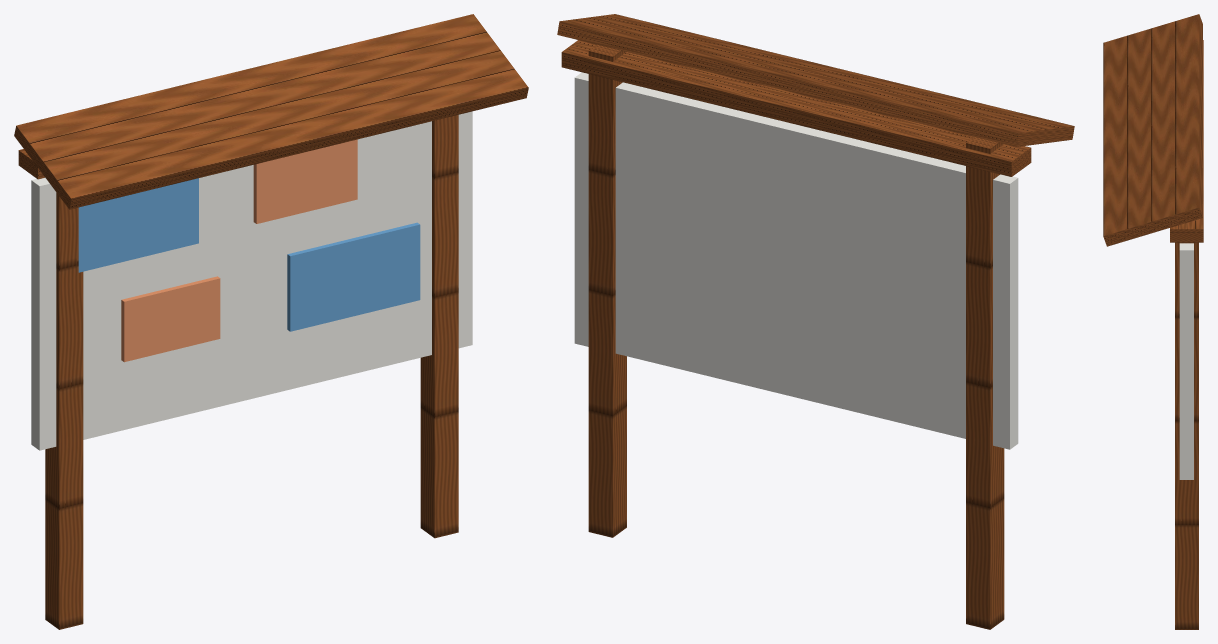
The model's file is caravan-park-and-campsite-site-noticeboard-3448b55f__35378.glb.
The picture shows the model from 3 angles, left to right: view 1: azimuth 30°, elevation 25°; view 2: azimuth 150°, elevation 25°; view 3: azimuth 270°, elevation 25°; orthographic projection. The views are drawn at different scales.
Visible parts, largest first — view 1: site-noticeboard-timber, site-noticeboard-shell, site-noticeboard-azure, site-noticeboard-flame; view 2: site-noticeboard-shell, site-noticeboard-timber; view 3: site-noticeboard-timber, site-noticeboard-shell.
Part boxes in pixels (x1,y1,x2,y2): site-noticeboard-timber: (14, 14, 528, 629); site-noticeboard-shell: (31, 111, 472, 450); site-noticeboard-azure: (78, 178, 420, 331); site-noticeboard-flame: (121, 139, 357, 362); site-noticeboard-shell: (574, 72, 1018, 449); site-noticeboard-timber: (557, 14, 1074, 629); site-noticeboard-timber: (1103, 14, 1203, 629); site-noticeboard-shell: (1179, 243, 1193, 479).
Bounding box in the file's own units: 1.9 × 1.99 × 0.4171.
4 materials, 1 textured.
